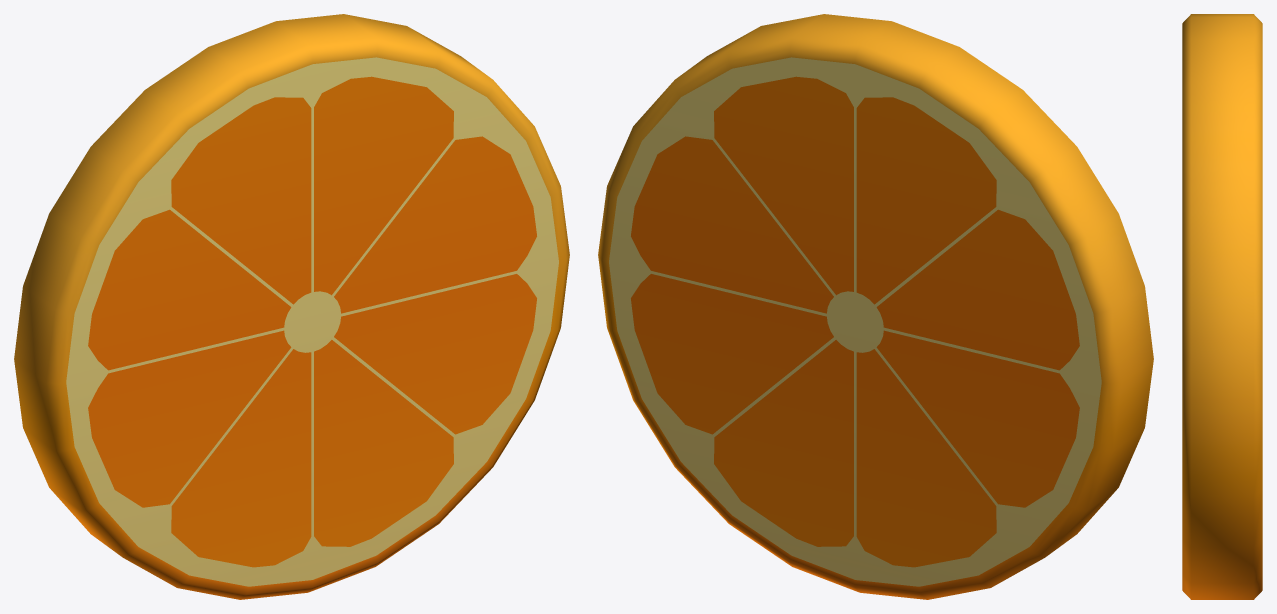
Rendered from Orange_ring.fbx.
The picture shows the model from 3 angles, left to right: view 1: azimuth 30°, elevation 25°; view 2: azimuth 150°, elevation 25°; view 3: azimuth 270°, elevation 25°; orthographic projection. The views are drawn at different scales.
Parts seen in each view (by area): view 1: Orange_ring; view 2: Orange_ring; view 3: Orange_ring.
Boxes of the visible parts, left/top/right/bottom form: Orange_ring: left=14, top=14, right=569, bottom=599; Orange_ring: left=598, top=14, right=1153, bottom=599; Orange_ring: left=1182, top=14, right=1262, bottom=599.
Bounding box in the file's own units: 169 × 169 × 23.08.
